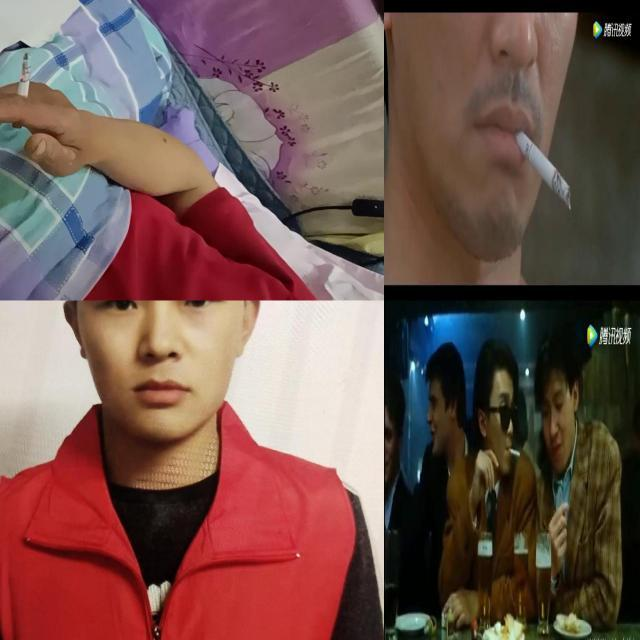cigarette: (514, 128, 573, 212), (12, 54, 30, 130), (508, 446, 522, 459)
